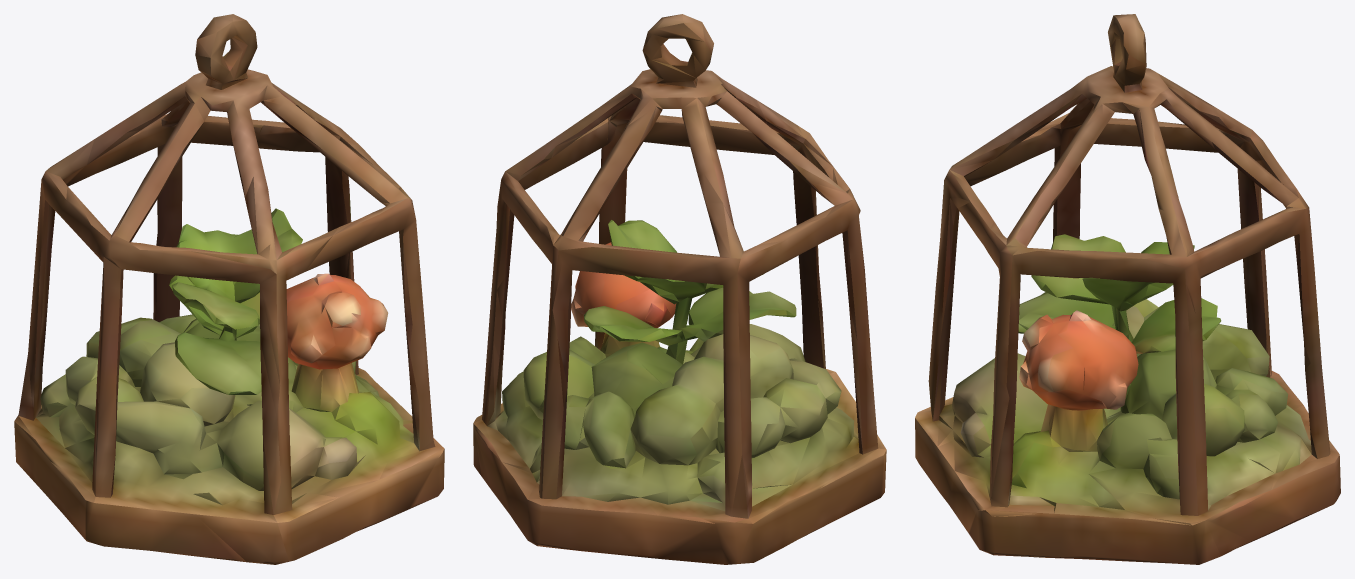
File: deco14.glb
3 views of the same model, side by side, from view 1: azimuth 30°, elevation 25°; view 2: azimuth 150°, elevation 25°; view 3: azimuth 270°, elevation 25° (orthographic).
Bounding box in the file's own units: 0.166 × 0.2121 × 0.1762.
1 material, 1 textured.
